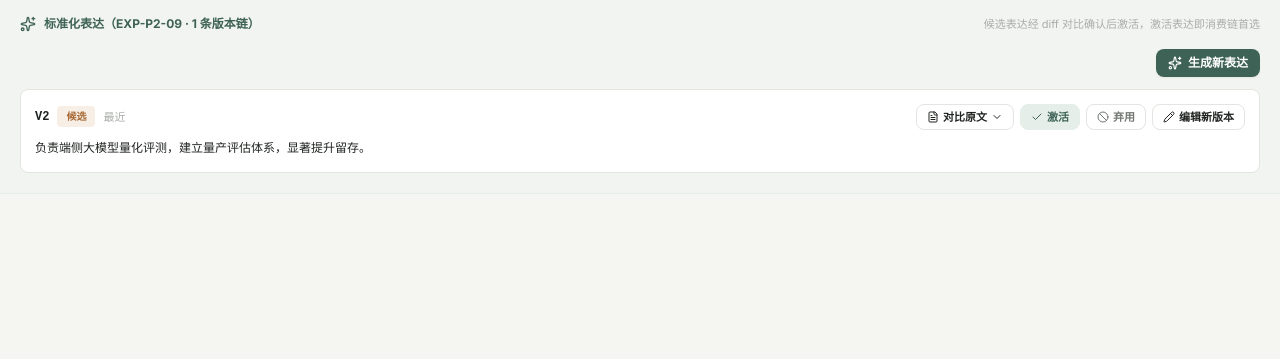
Test: ExpressionPanel（EXP-P2-09） › 展开 diff 展示原文 vs content 的行级对比
Step 1. Click the button "对比原文" → (965, 117), box [916, 104, 1014, 130]
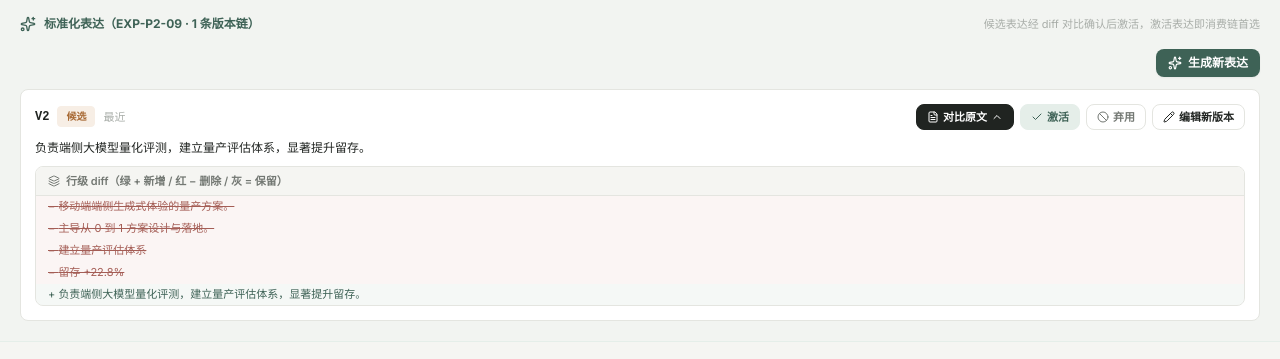
Expected: the text "负责端侧大模型量化评测，建立量产评估体系，显著提升留存。" is shown, [35, 140, 371, 155]
Expected: the text "行级 diff（绿 + 新增 / 红 − 删除 / 灰 = 保留）" is shown, [66, 172, 288, 189]
